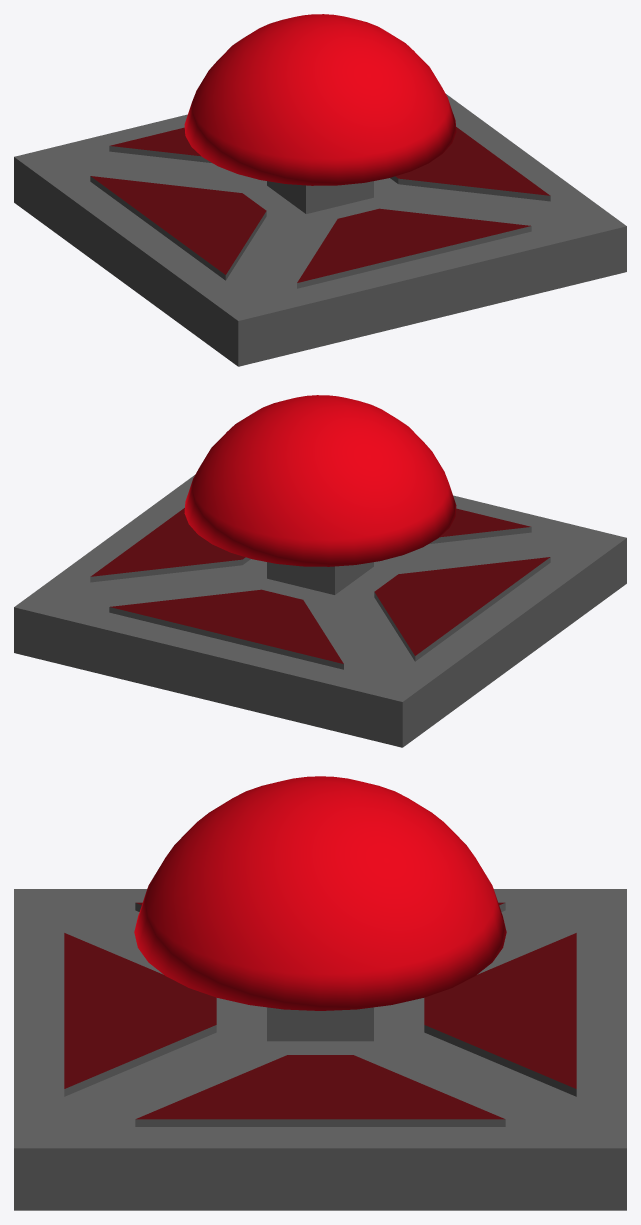
The model's file is redButton.glb.
The picture shows the model from 3 angles, top to bottom: view 1: azimuth 30°, elevation 25°; view 2: azimuth 150°, elevation 25°; view 3: azimuth 270°, elevation 25°; orthographic projection. The views are drawn at different scales.
Visible parts, largest first — view 1: Cube, Sphere; view 2: Cube, Sphere; view 3: Cube, Sphere.
Part boxes in pixels (bbox=[...]): Cube: bbox=[14, 94, 626, 366]; Sphere: bbox=[184, 14, 456, 185]; Cube: bbox=[14, 475, 626, 747]; Sphere: bbox=[184, 395, 456, 566]; Cube: bbox=[14, 889, 626, 1210]; Sphere: bbox=[134, 776, 506, 1010].
Bounding box in the file's own units: 2.89 × 1.5 × 2.89.
